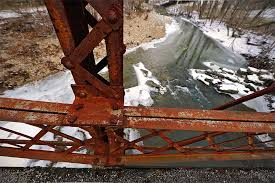rust: (2, 96, 273, 164), (44, 2, 135, 104)
